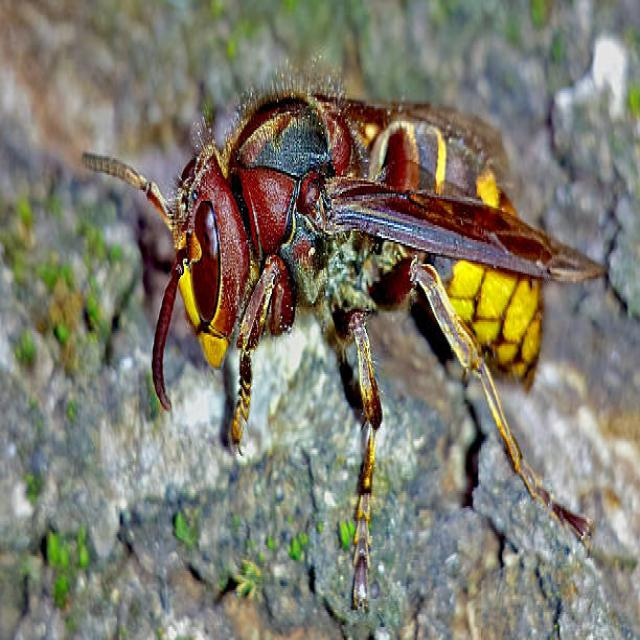Vespa Crabro: (62, 49, 596, 574)
